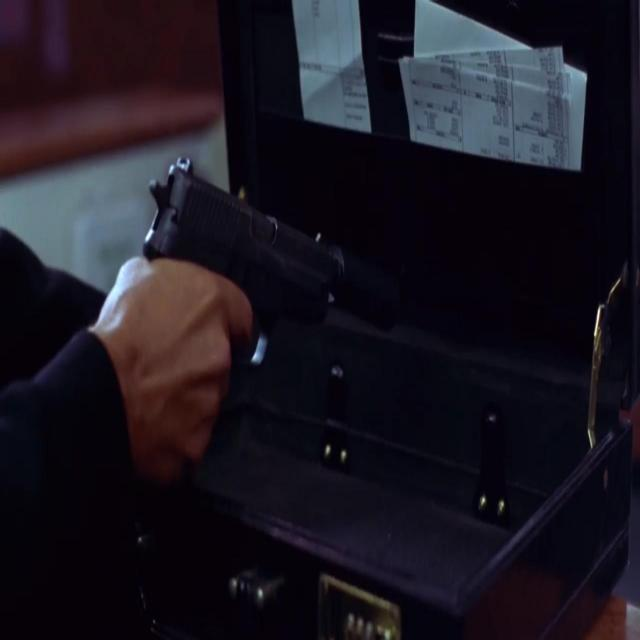gun-knife-thesis - v11 Yolov5 augmented: (137, 144, 407, 524)
